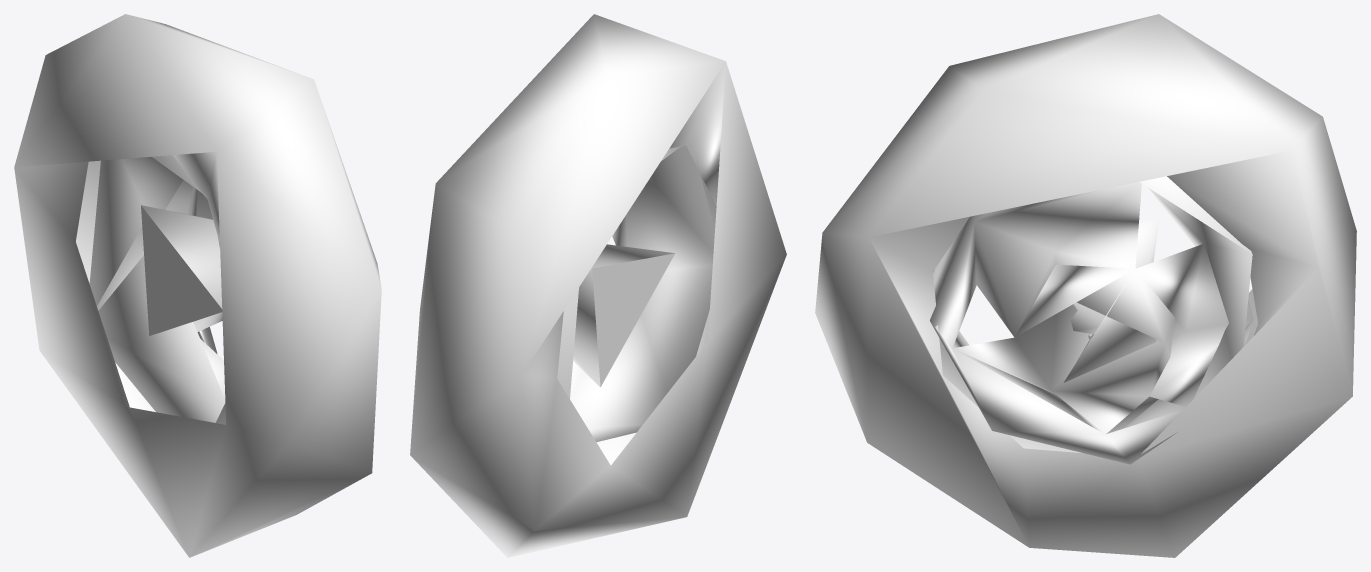
3 views of the same model, side by side, from view 1: azimuth 30°, elevation 25°; view 2: azimuth 150°, elevation 25°; view 3: azimuth 270°, elevation 25° (orthographic).
Bounding box in the file's own units: 0.3438 × 1.05 × 1.04.
1 material, 1 textured.
